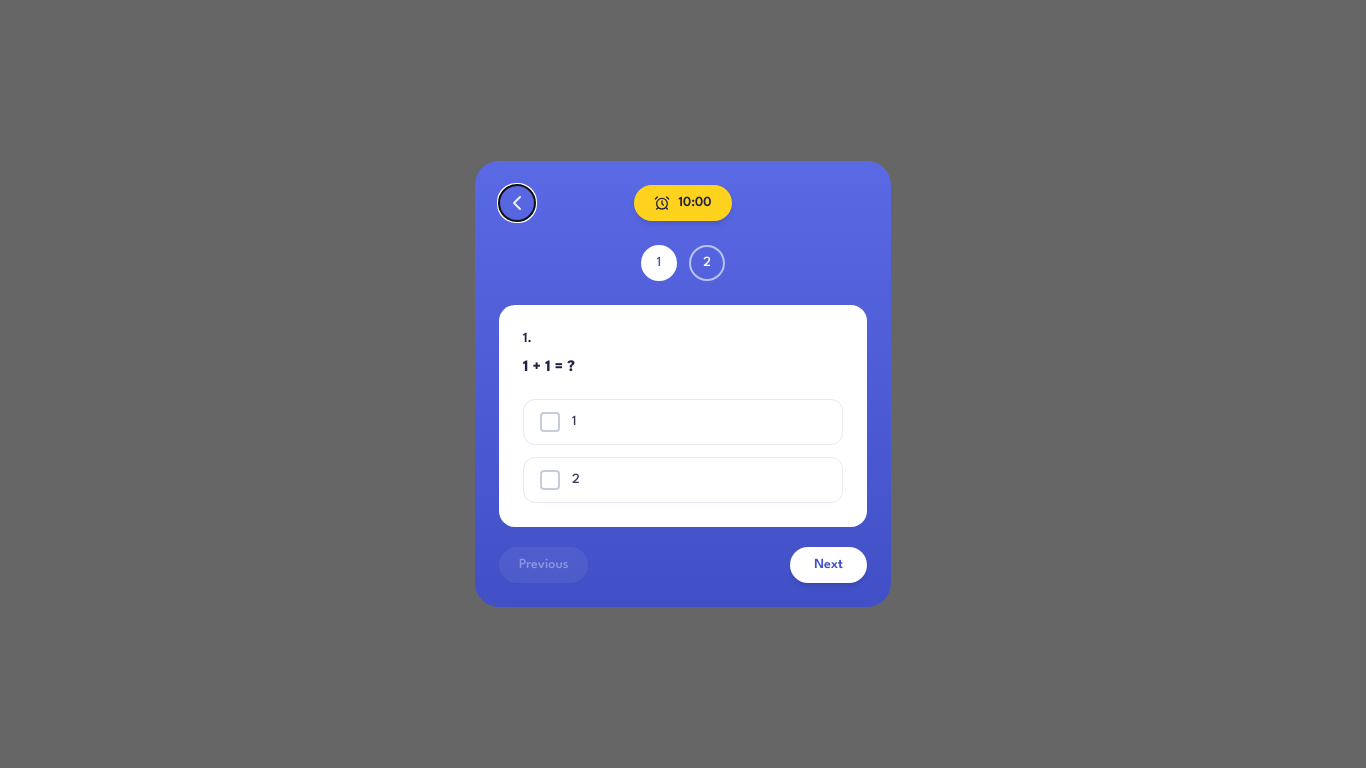
Test: ExamDialog › counts only correct answers
This screenshot has width=1366, height=768.
What coordinates should you click on to do the following:
click the button "1" below "1 + 1 = ?"
I would click on:
 (550, 422)
Its box is [523,399,843,445].
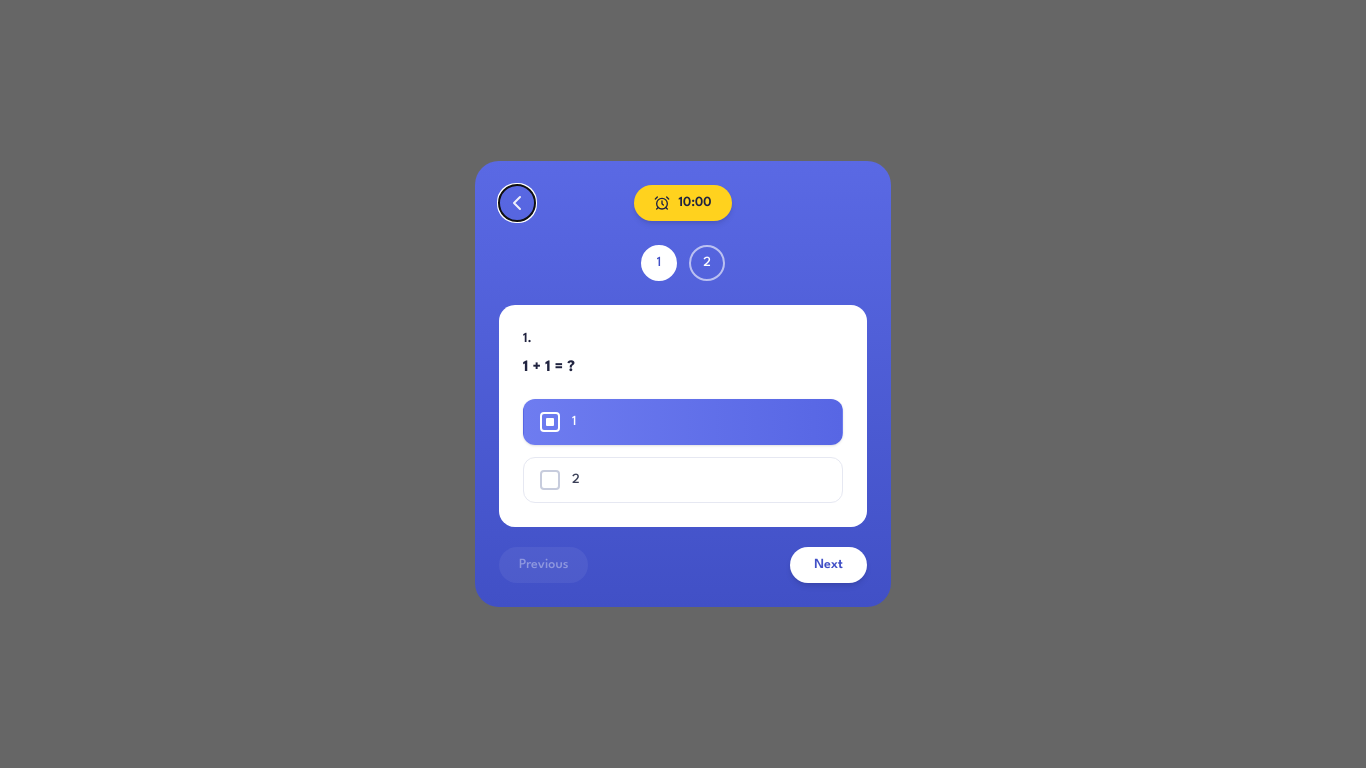
What coordinates should you click on to do the following:
click the button "Next"
I would click on:
 (829, 565)
Its box is [790,547,867,583].
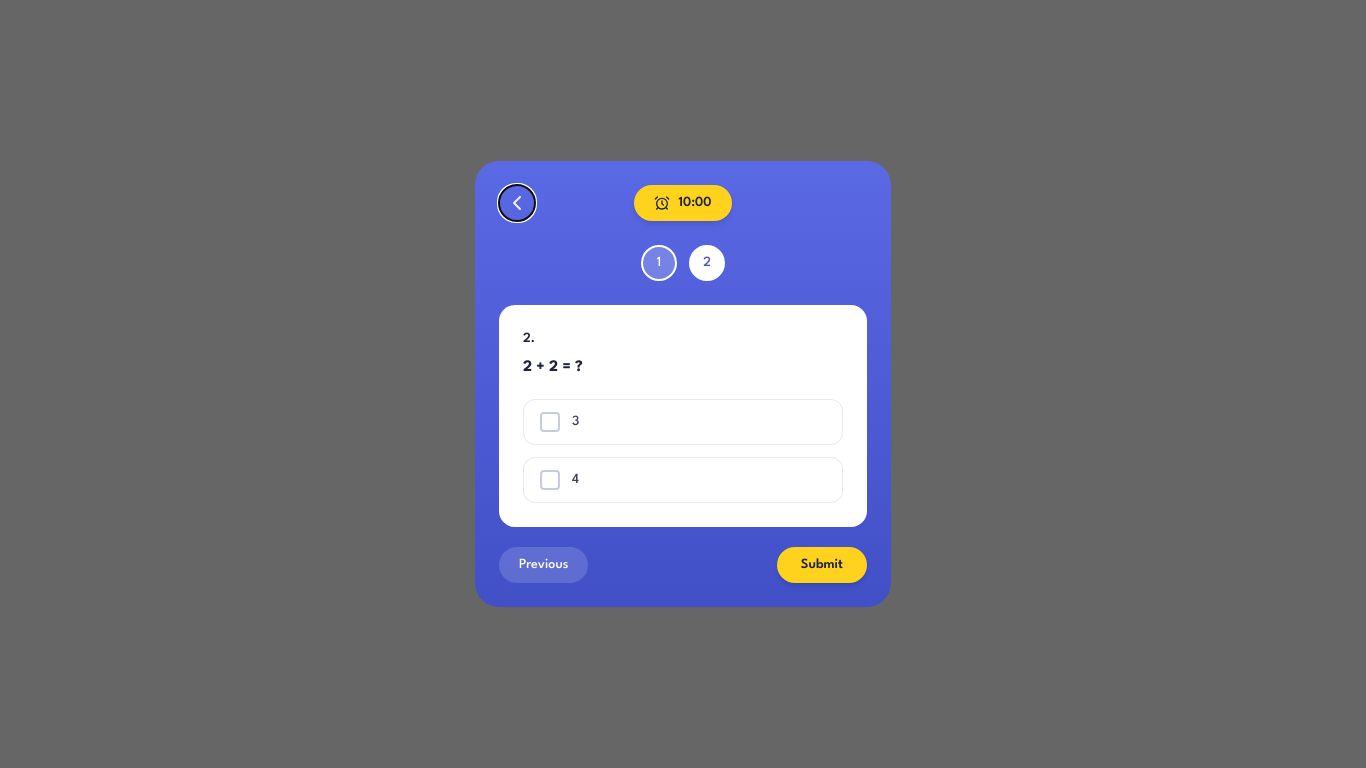
What coordinates should you click on to do the following:
click the button "4"
I would click on:
 (550, 480)
Its box is [523,457,843,503].
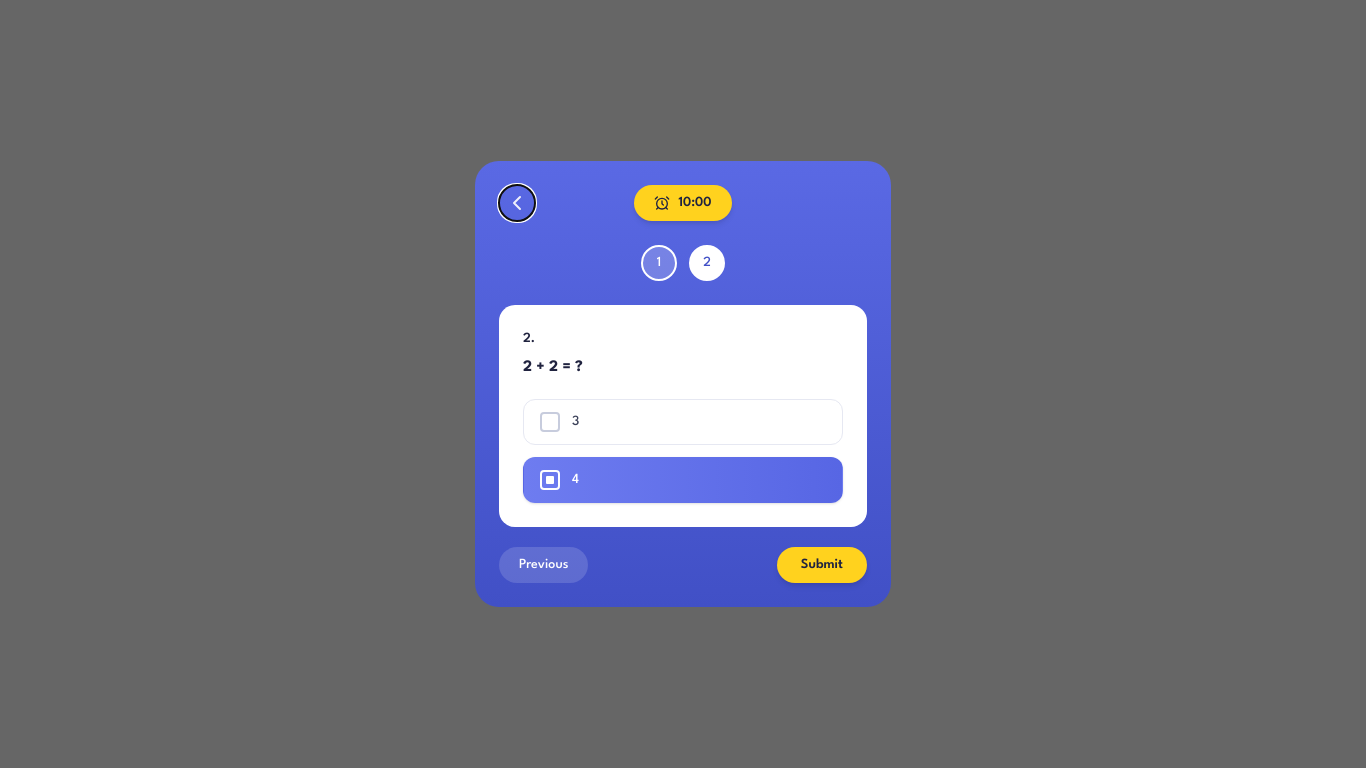
What coordinates should you click on to do the following:
click the button "Submit"
I would click on:
 (822, 565)
Its box is [777,547,867,583].
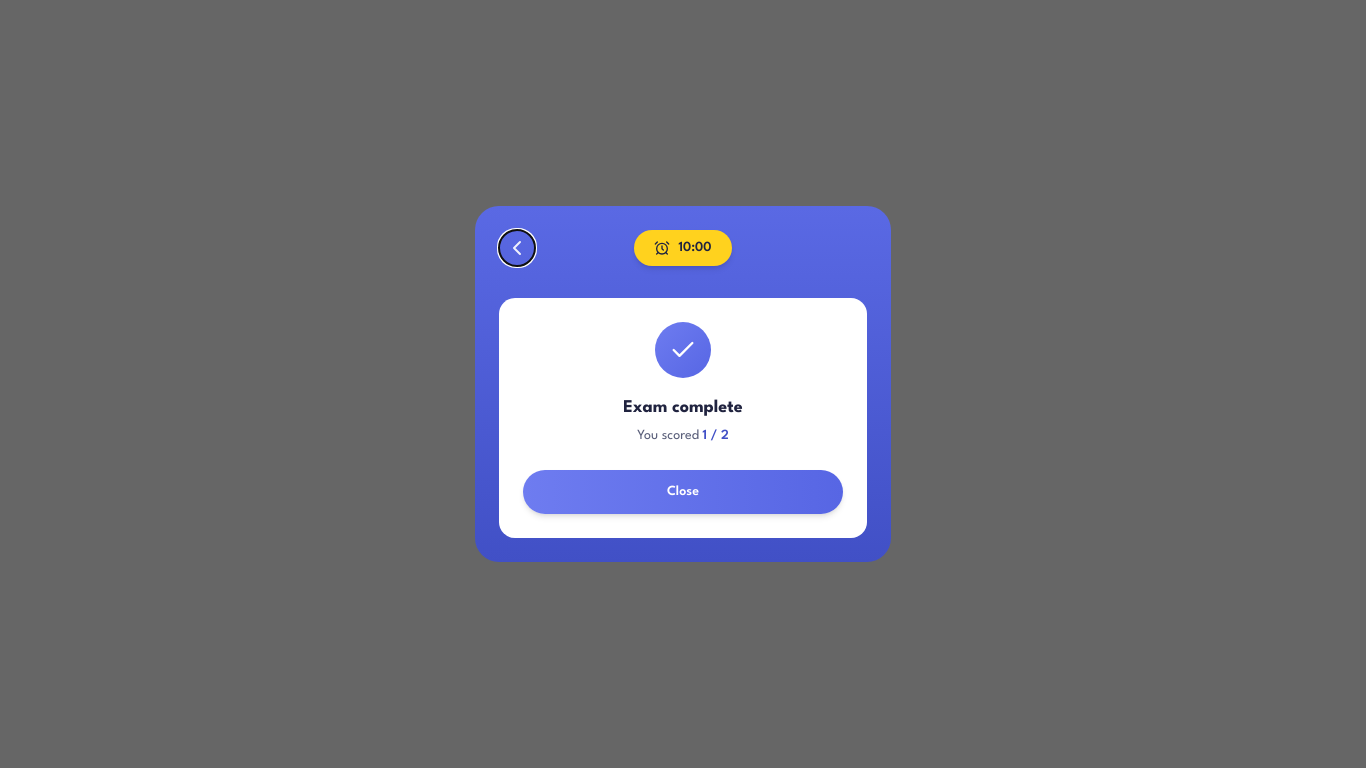
Expected: the text "1 / 2" is shown, [702,429,729,442]
